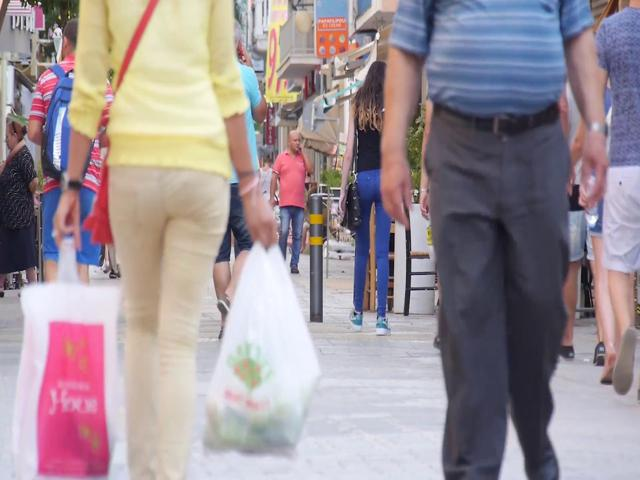shoe: (614, 329, 636, 394), (348, 310, 363, 331), (375, 315, 390, 335)
